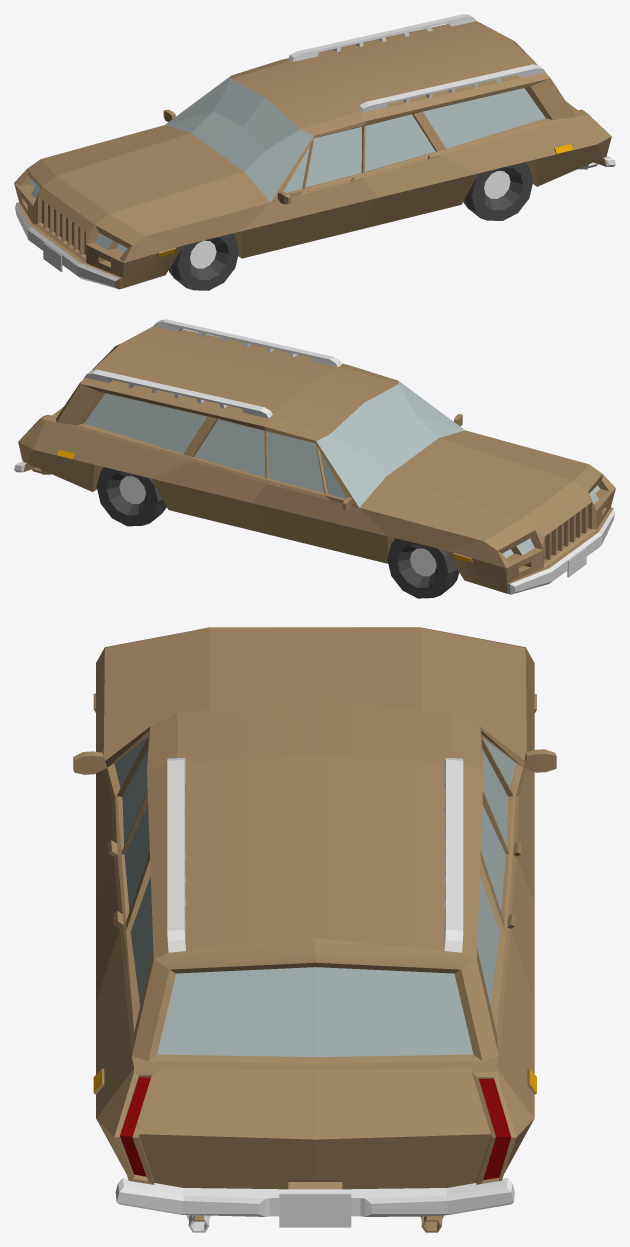
Rendered from 主角旅行車.fbx.
The picture shows the model from 3 angles, top to bottom: view 1: azimuth 30°, elevation 25°; view 2: azimuth 150°, elevation 25°; view 3: azimuth 270°, elevation 25°; orthographic projection. The views are drawn at different scales.
Visible parts, largest first — view 1: polySurface82, polySurface81, polySurface24, polySurface34, polySurface25, polySurface31, polySurface28, polySurface43, polySurface45, polySurface47, polySurface33, polySurface46 (+4 smaller); view 2: polySurface82, polySurface81, polySurface24, polySurface29, polySurface26, polySurface41, polySurface23, polySurface39, polySurface46, polySurface47, polySurface20, polySurface40 (+2 smaller); view 3: polySurface82, polySurface81, polySurface32, polySurface21, polySurface36, polySurface46, polySurface47, plate_back, polySurface29, polySurface34, polySurface49, polySurface31 (+4 smaller).
Boxes of the visible parts, x1,y1,x2,y2 form: polySurface82: [14, 21, 611, 289]; polySurface81: [41, 125, 270, 235]; polySurface24: [165, 76, 313, 202]; polySurface34: [423, 88, 545, 148]; polySurface25: [241, 198, 377, 258]; polySurface31: [364, 114, 435, 171]; polySurface28: [305, 127, 361, 187]; polySurface43: [463, 162, 533, 220]; polySurface45: [168, 233, 239, 290]; polySurface47: [357, 64, 545, 113]; polySurface33: [526, 144, 602, 186]; polySurface46: [288, 14, 476, 61]; polySurface82: [18, 326, 615, 593]; polySurface81: [359, 430, 588, 541]; polySurface24: [316, 381, 464, 507]; polySurface29: [84, 393, 206, 453]; polySurface26: [194, 419, 265, 477]; polySurface41: [387, 538, 459, 598]; polySurface23: [268, 432, 324, 492]; polySurface39: [96, 467, 166, 526]; polySurface46: [84, 369, 272, 418]; polySurface47: [153, 319, 341, 367]; polySurface20: [507, 508, 614, 594]; polySurface40: [410, 548, 436, 576]; polySurface82: [73, 627, 556, 1232]; polySurface81: [103, 627, 526, 760]; polySurface32: [157, 967, 473, 1056]; polySurface21: [115, 1178, 514, 1232]; polySurface36: [315, 1134, 491, 1189]; polySurface46: [444, 758, 463, 952]; polySurface47: [167, 758, 185, 952]; plate_back: [279, 1193, 351, 1227]; polySurface29: [477, 876, 499, 1005]; polySurface34: [130, 876, 153, 1005]; polySurface49: [479, 1079, 510, 1180]; polySurface31: [124, 805, 149, 911].
Size of the model in its own units: 6.13 by 1.57 by 2.49.
